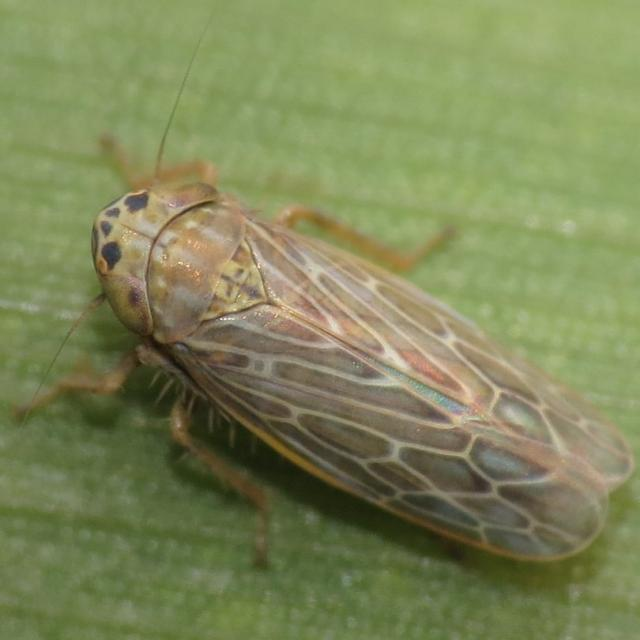Yechan: (41, 148, 636, 584)
